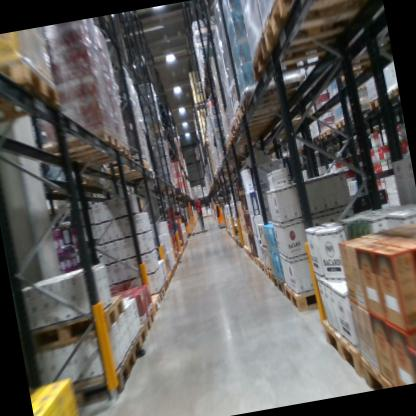pallet: (48, 340, 143, 416), (256, 0, 387, 51), (24, 296, 130, 354), (246, 19, 353, 74), (0, 55, 68, 126), (38, 124, 121, 169), (319, 308, 363, 389), (283, 269, 344, 316), (231, 94, 304, 132), (236, 78, 307, 117), (355, 336, 395, 390), (79, 140, 130, 167), (229, 112, 279, 136), (270, 105, 316, 131), (109, 155, 152, 179), (129, 324, 151, 361), (137, 307, 157, 335), (272, 272, 288, 300), (145, 292, 163, 316), (316, 122, 334, 143), (384, 83, 400, 106), (331, 114, 350, 131), (262, 261, 276, 283), (370, 95, 388, 111), (154, 283, 167, 303), (163, 270, 174, 287), (310, 132, 320, 147), (161, 276, 170, 292), (257, 257, 266, 272), (251, 252, 259, 267), (247, 247, 254, 262), (243, 245, 250, 259)
pallet_truck: (211, 194, 231, 232)
